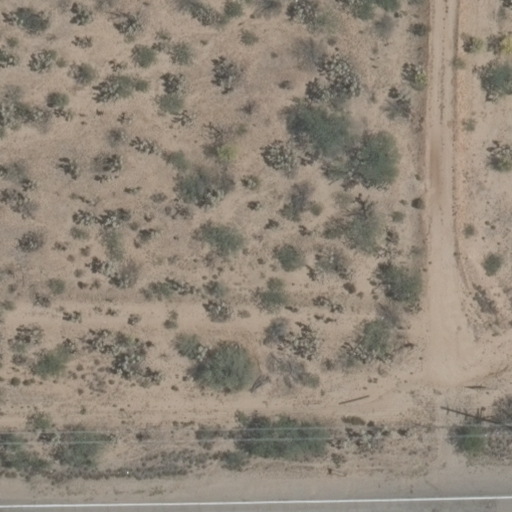DT: (483, 418, 512, 436)
